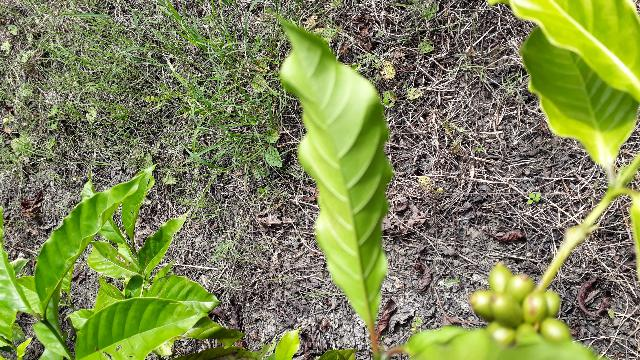healthy: (277, 10, 398, 330)
